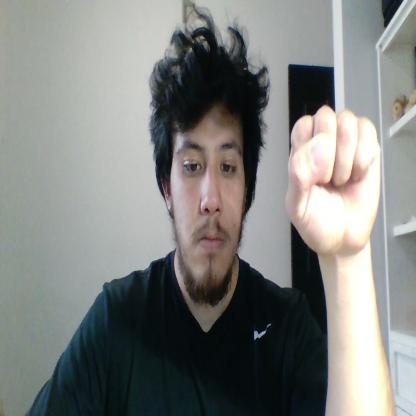S: (285, 106, 382, 255)
